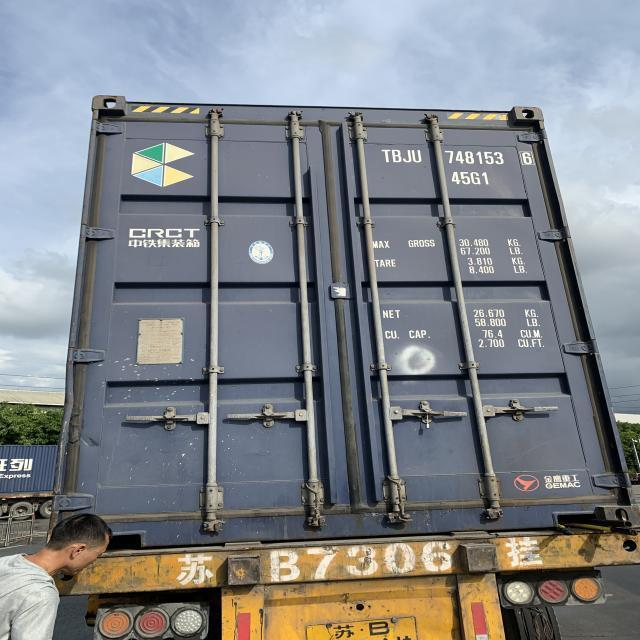ISO: (450, 168, 492, 188)
container_number: (384, 148, 542, 166)
